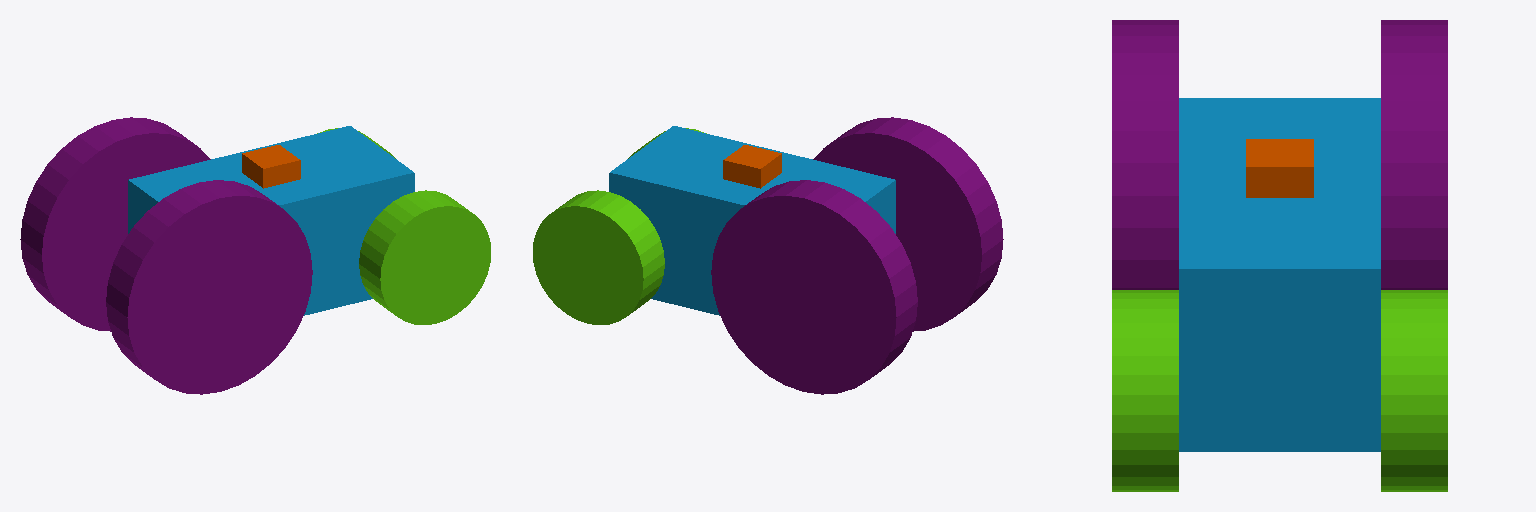
The robot description file, URDF, robot "custom_bot":
<?xml version="1.0"?>
<robot name="custom_bot">

    <link name="base_link">
        <visual>
            <geometry>
                <box size="0.6 0.3 0.3" />
            </geometry>
            <material name="red">
                <color rgba=".1 0.6 0.8 .5" />
            </material>
        </visual>


    </link>


    <link name="front_right_wheel">
        <visual>
            <geometry>
                <cylinder radius="0.15" length="0.1" />
            </geometry>
            <material>
                <color rgba="0.4 0.8 0.1 1" />
            </material>
        </visual>

    </link>

    <joint name="front_right_wheel_joint" type="continuous">
        <axis xyz="0.0 0.0 1" />
        <parent link="base_link" />
        <child link="front_right_wheel" />
        <origin xyz=".3 .2 -.05" rpy="-1.5708 0.0 0.0" />

    </joint>
    <link name="front_left_wheel">
        <visual>
            <geometry>
                <cylinder radius="0.15" length="0.1" />
            </geometry>
            <material>
                <color rgba="0.4 0.8 0.1 1" />
            </material>

        </visual>

    </link>

    <joint name="front_left_wheel_joint" type="continuous">
        <axis xyz="0.0 0.0 1" />
        <parent link="base_link" />
        <child link="front_left_wheel" />
        <origin xyz=".3 -.2 -.05" rpy="-1.5708 0.0 0.0" />

    </joint>

    <link name="right_wheel">
        <visual>
            <geometry>
                <cylinder radius="0.25" length="0.1" />
            </geometry>
            <material name="black">
                <color rgba="0.5 0.1 0.5 1" />
            </material>
        </visual>

    </link>

    <joint name="right_wheel_joint" type="continuous">
        <axis xyz="0.0 0.0 1" />
        <parent link="base_link" />
        <child link="right_wheel" />
        <origin xyz="-0.2825 -0.2 0.01" rpy="-1.5708 0.0 0.0" />

    </joint>
    <link name="left_wheel">
        <visual>
            <geometry>
                <cylinder radius="0.25" length="0.1" />
            </geometry>
            <material name="black">
                <color rgba="0.5 0.1 0.5 1" />
            </material>

        </visual>

    </link>

    <joint name="left_wheel_joint" type="continuous">
        <axis xyz="0.0 0.0 1" />
        <parent link="base_link" />
        <child link="left_wheel" />
        <origin xyz="-0.2825 0.2 0.01" rpy="-1.5708 0.0 0.0" />

    </joint>


    <link name="laser_scanner">
        <visual>
            <geometry>
                <box size="0.1 0.1 0.1" />
            </geometry>
        </visual>
    </link>

    <joint name="laser_scanner_joint" type="fixed">
        <axis xyz="0.0 1 0.0" />
        <parent link="base_link" />
        <child link="laser_scanner" />
        <origin xyz="0.0 0.0 0.15" rpy="0.0 0.0 0.0" />
    </joint>

</robot> 

--- Facts derived from the render (not from the file) ---
The picture shows the robot from 3 angles, left to right: view 1: azimuth 30°, elevation 25°; view 2: azimuth 150°, elevation 25°; view 3: azimuth 270°, elevation 25°; orthographic projection.
Robot: custom_bot — 6 links, 5 joints (4 continuous, 1 fixed); root link base_link; default pose: every joint at zero.
Links seen in each view (by area): view 1: right_wheel, left_wheel, base_link, front_left_wheel, laser_scanner; view 2: left_wheel, right_wheel, base_link, front_right_wheel, laser_scanner; view 3: base_link, right_wheel, left_wheel, front_right_wheel, front_left_wheel, laser_scanner.
Boxes of the visible links, box(x1,y1,x2,y2) form: right_wheel: box(106, 180, 312, 394); left_wheel: box(20, 117, 210, 331); base_link: box(128, 126, 414, 315); front_left_wheel: box(359, 190, 490, 324); laser_scanner: box(242, 145, 300, 188); left_wheel: box(711, 180, 917, 394); right_wheel: box(813, 117, 1003, 331); base_link: box(609, 126, 895, 315); front_right_wheel: box(533, 190, 664, 324); laser_scanner: box(723, 145, 781, 188); base_link: box(1179, 98, 1380, 451); right_wheel: box(1112, 20, 1178, 289); left_wheel: box(1381, 20, 1447, 289); front_right_wheel: box(1381, 290, 1447, 491); front_left_wheel: box(1112, 290, 1178, 491); laser_scanner: box(1246, 139, 1313, 197).
Bounding box of the posed robot: 0.9825 × 0.5 × 0.5 m (x, y, z).
Geometry: primitives only (box / cylinder / sphere), no mesh files.